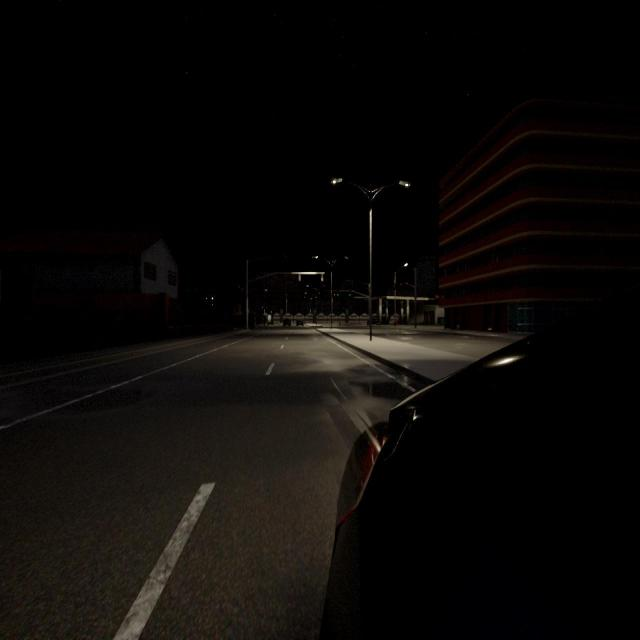Vehicle: (326, 306, 640, 637), (390, 314, 400, 324), (367, 318, 377, 324), (284, 318, 290, 326), (297, 319, 303, 326)
traffic_light: (321, 274, 324, 282), (298, 274, 301, 281), (337, 292, 339, 296), (349, 292, 351, 296)
